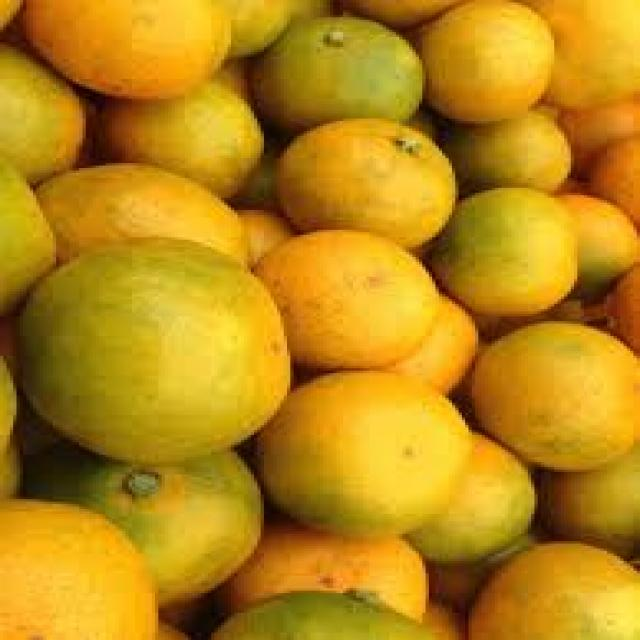organic waste: (17, 235, 287, 460), (19, 435, 260, 608), (251, 363, 465, 536), (248, 222, 432, 366), (465, 316, 637, 467), (30, 158, 247, 267), (274, 116, 452, 247), (215, 512, 422, 622), (0, 492, 155, 638), (244, 15, 419, 136), (425, 183, 584, 314), (86, 76, 254, 192), (20, 0, 221, 96), (462, 538, 637, 638), (406, 428, 534, 564), (419, 0, 551, 119), (528, 448, 637, 564), (0, 32, 82, 182), (211, 590, 449, 638), (528, 0, 637, 104), (432, 106, 568, 186), (0, 151, 56, 314), (396, 289, 475, 393), (558, 192, 636, 296), (558, 91, 636, 173), (422, 558, 482, 638), (587, 131, 637, 220), (218, 0, 290, 57), (231, 203, 290, 257), (607, 257, 637, 361), (340, 0, 455, 25), (238, 146, 280, 208), (0, 430, 20, 502), (284, 0, 333, 22), (152, 618, 194, 638), (0, 356, 7, 464), (0, 0, 23, 27)
